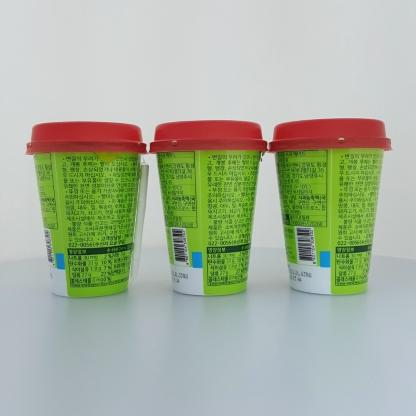--------: (269, 119, 394, 295), (25, 121, 149, 297), (148, 120, 269, 296)
